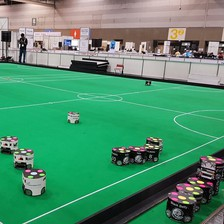robot: (163, 188, 195, 223), (20, 168, 47, 197), (196, 153, 224, 180), (10, 146, 36, 170), (109, 144, 129, 166), (1, 132, 18, 154), (127, 145, 145, 164), (143, 143, 160, 163), (201, 177, 211, 205), (191, 185, 201, 212), (66, 108, 81, 125), (145, 135, 163, 146), (143, 78, 152, 87)
